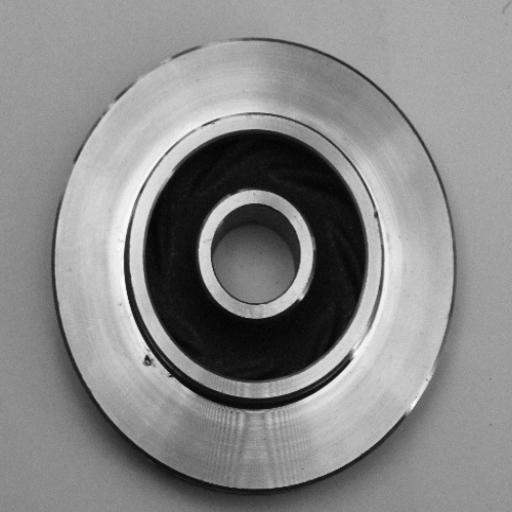crack: (364, 198, 393, 226), (133, 345, 162, 373)
scratch: (343, 316, 389, 373)
unpolished_casting: (53, 36, 458, 496)
